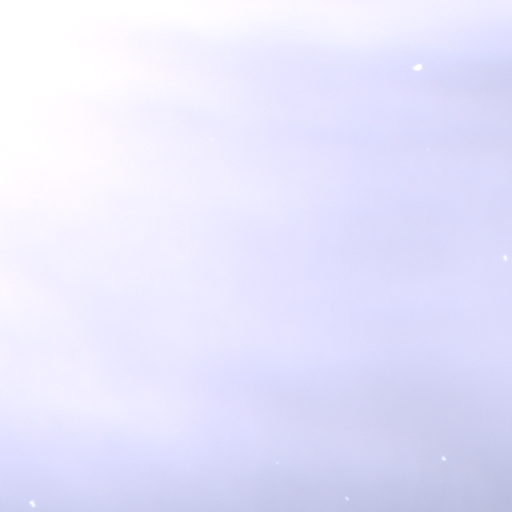Iceberg: (413, 65, 421, 70), (30, 501, 34, 506), (345, 497, 348, 500), (504, 255, 506, 259), (442, 457, 445, 459), (276, 462, 277, 463)
